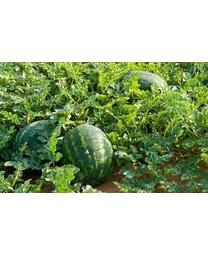watermelon: (61, 124, 114, 186)
